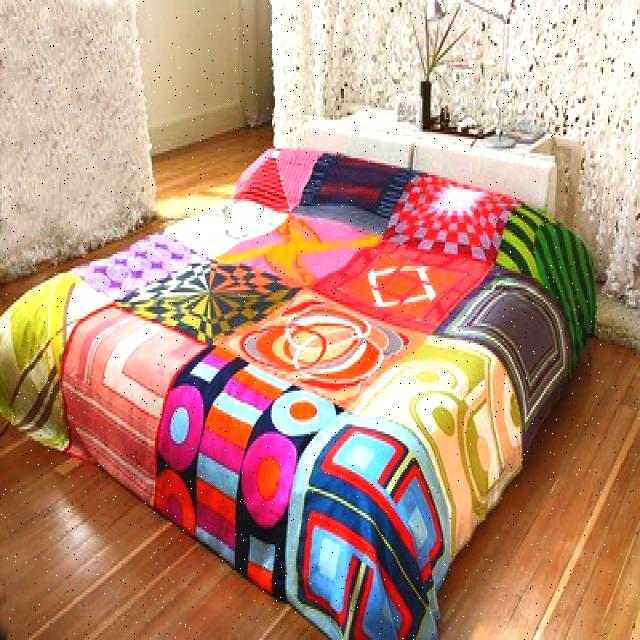bed: (11, 109, 582, 590)
